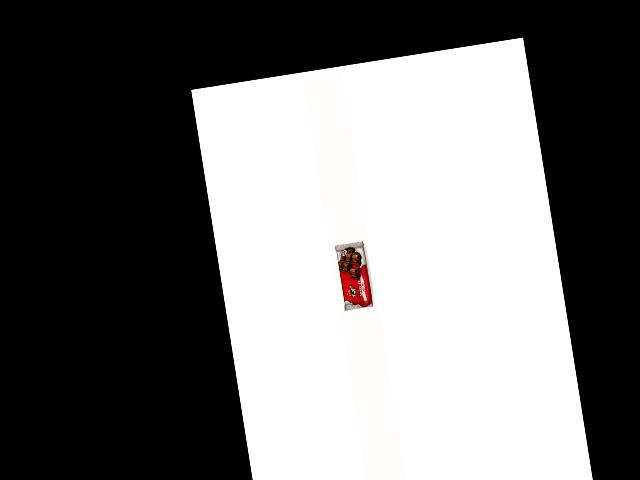chocolate: (338, 237, 390, 321)
